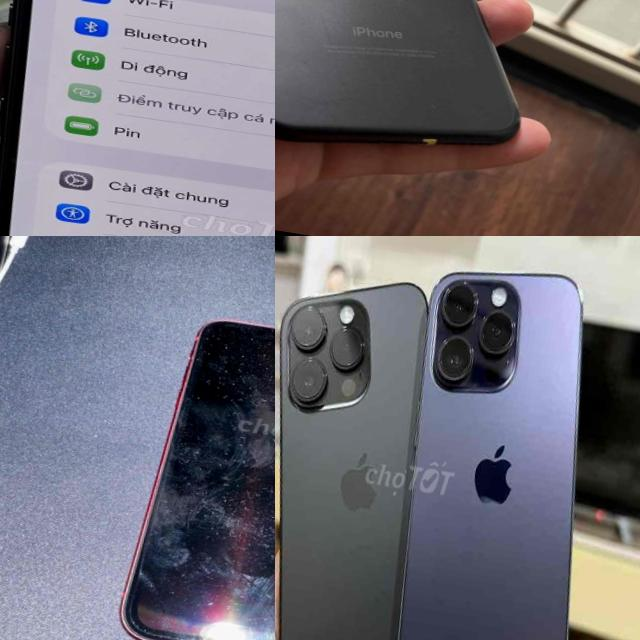gen_11: (111, 297, 275, 640)
gen_14: (368, 258, 639, 640)
gen_15: (0, 0, 275, 236)
gen_7_8: (275, 0, 561, 179)
